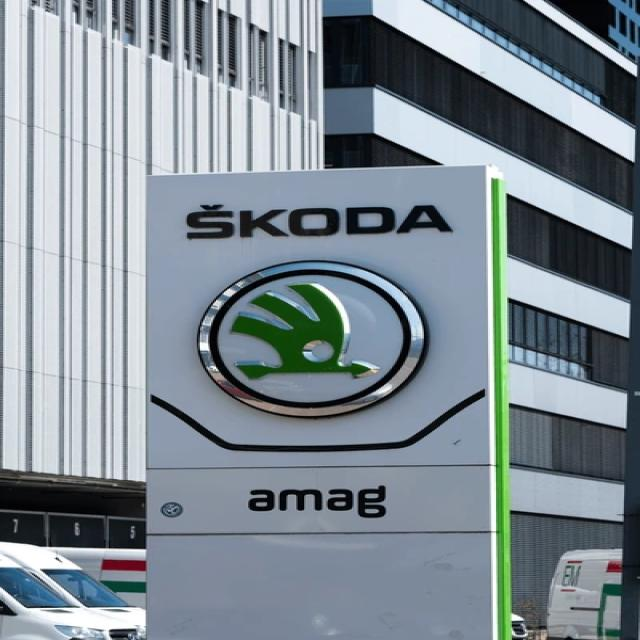skoda: (196, 266, 437, 414)
